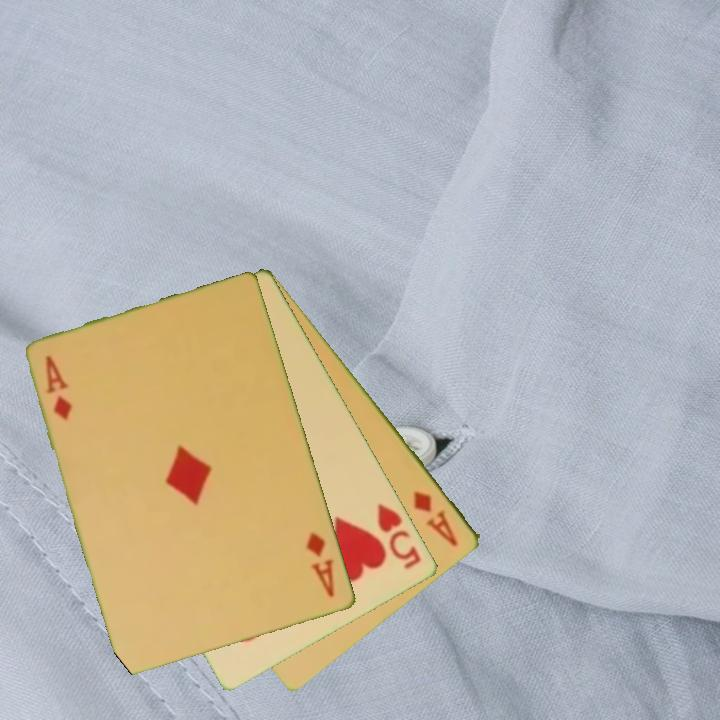5h: (374, 499, 425, 573)
Ad: (410, 488, 462, 550), (303, 528, 338, 601), (42, 352, 75, 424)
